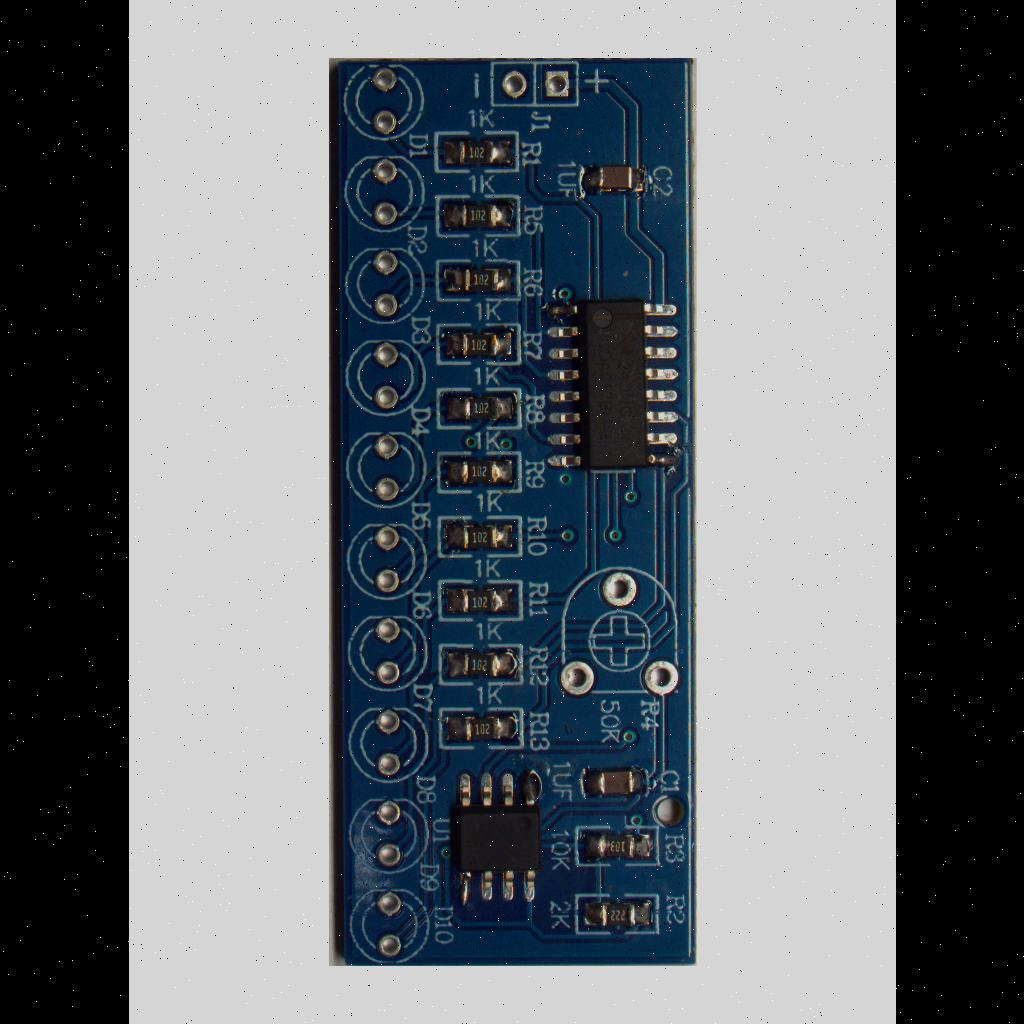OK: (538, 292, 686, 482), (447, 764, 545, 916), (430, 255, 522, 305), (434, 448, 524, 498), (432, 385, 524, 433), (431, 193, 523, 241), (430, 129, 522, 177), (434, 706, 526, 754), (434, 513, 524, 561), (432, 321, 524, 367), (434, 642, 526, 688), (434, 578, 524, 624), (574, 892, 662, 938), (574, 822, 660, 868), (574, 761, 654, 805), (576, 162, 650, 200)
